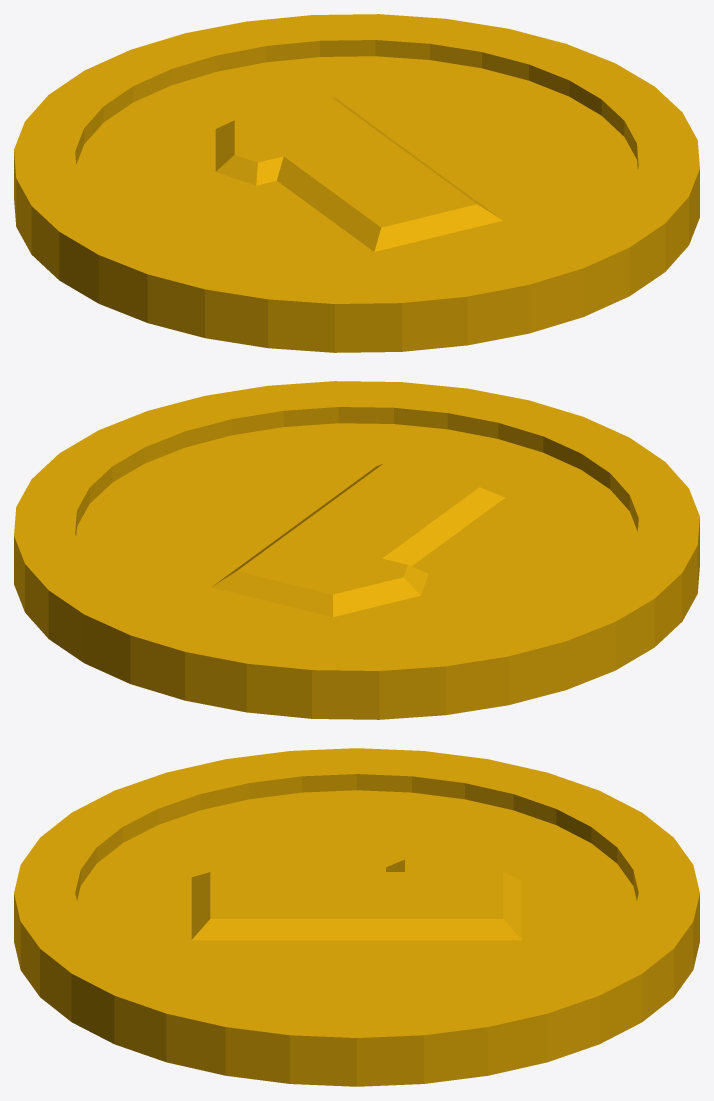
Rendered from coin.glb.
3 views of the same model, one above another, from view 1: azimuth 30°, elevation 25°; view 2: azimuth 150°, elevation 25°; view 3: azimuth 270°, elevation 25° (orthographic).
Parts seen in each view (by area): view 1: coin; view 2: coin; view 3: coin.
Part boxes in pixels (<box>): coin: <box>14,14,699,352</box>; coin: <box>14,381,699,719</box>; coin: <box>14,748,699,1086</box>.
Bounding box in the file's own units: 0.25 × 0.0196 × 0.25.
